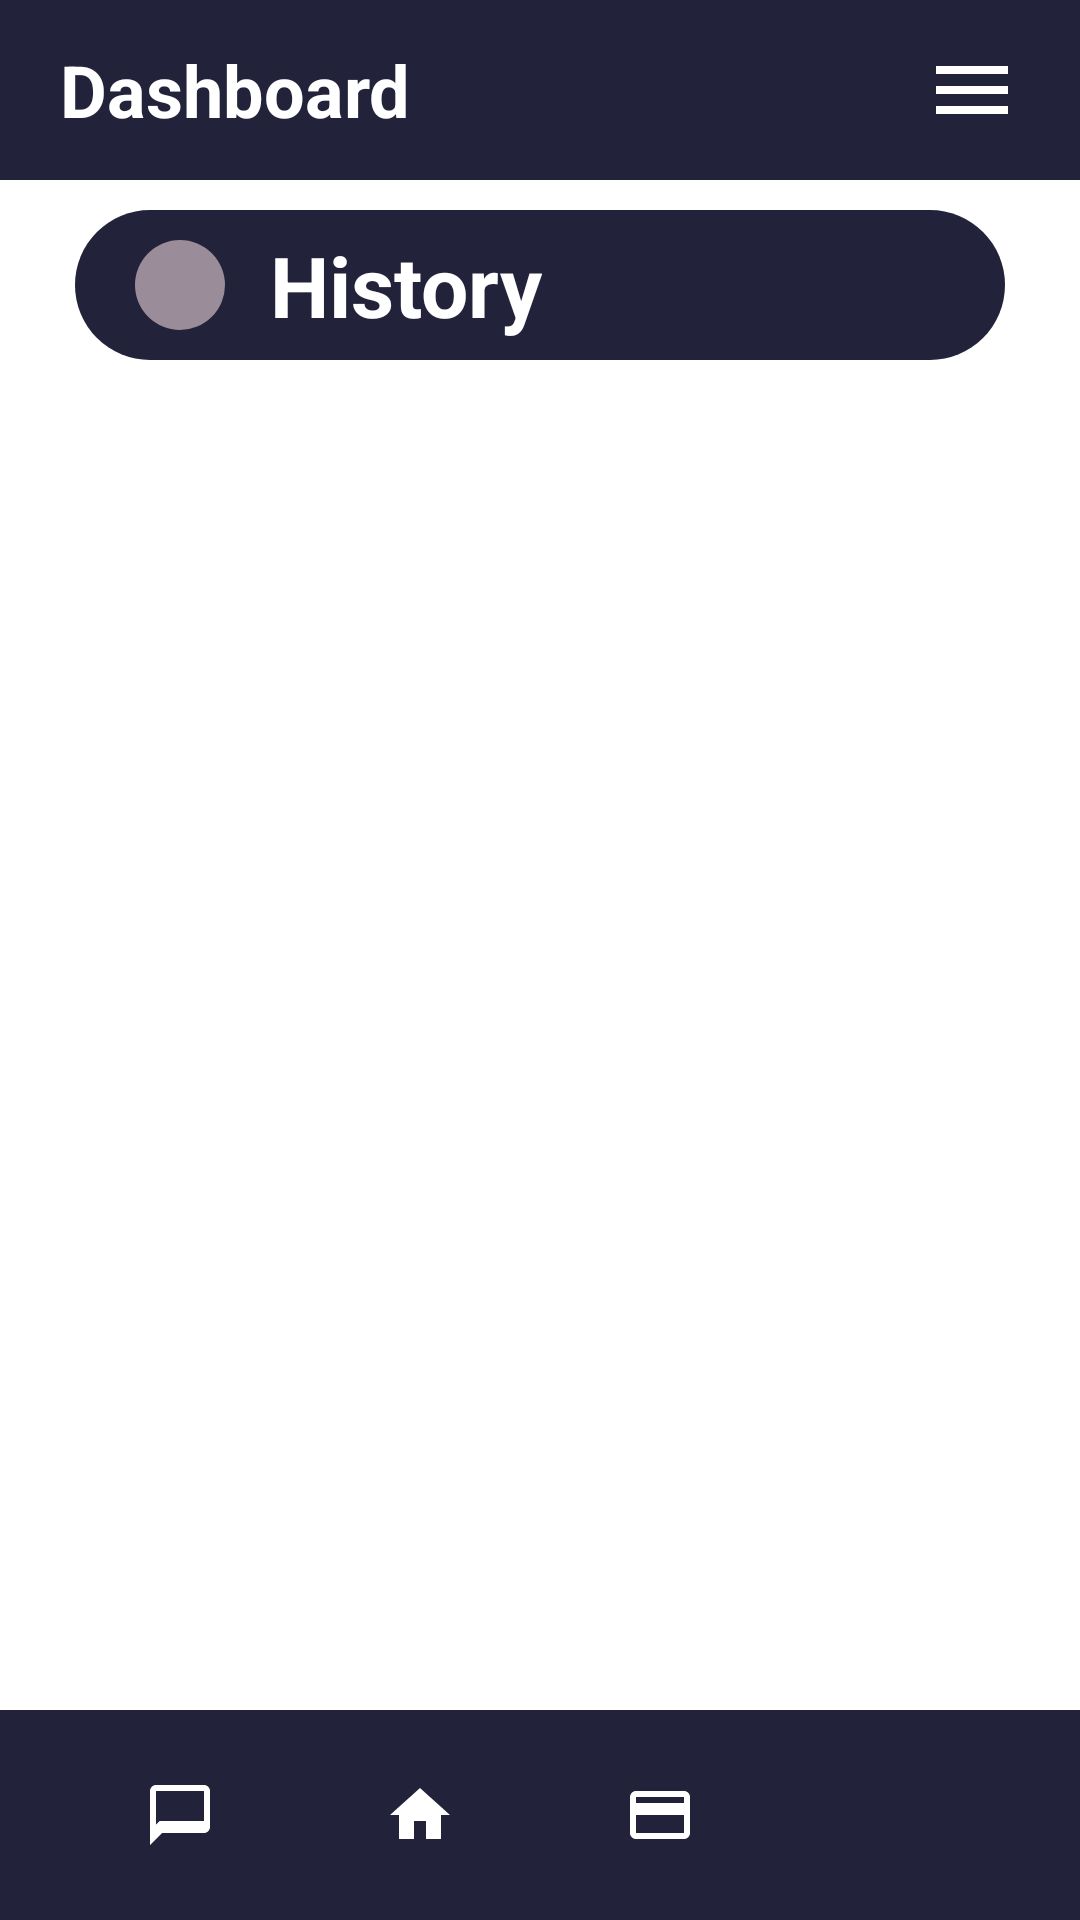

Icons on this 1080 x 1920 Android screen, each with its box as BBox(x1, y1, x2, y2):
Home: BBox(390, 1788, 450, 1839)
Menu: BBox(936, 66, 1008, 114)
Messages: BBox(150, 1785, 210, 1845)
Payments: BBox(630, 1791, 690, 1839)
